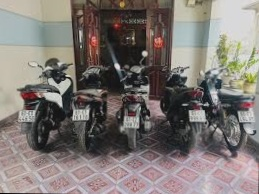Bien-so: (238, 110, 257, 124), (72, 108, 90, 121), (19, 109, 35, 123), (189, 110, 205, 123), (124, 117, 138, 128)
